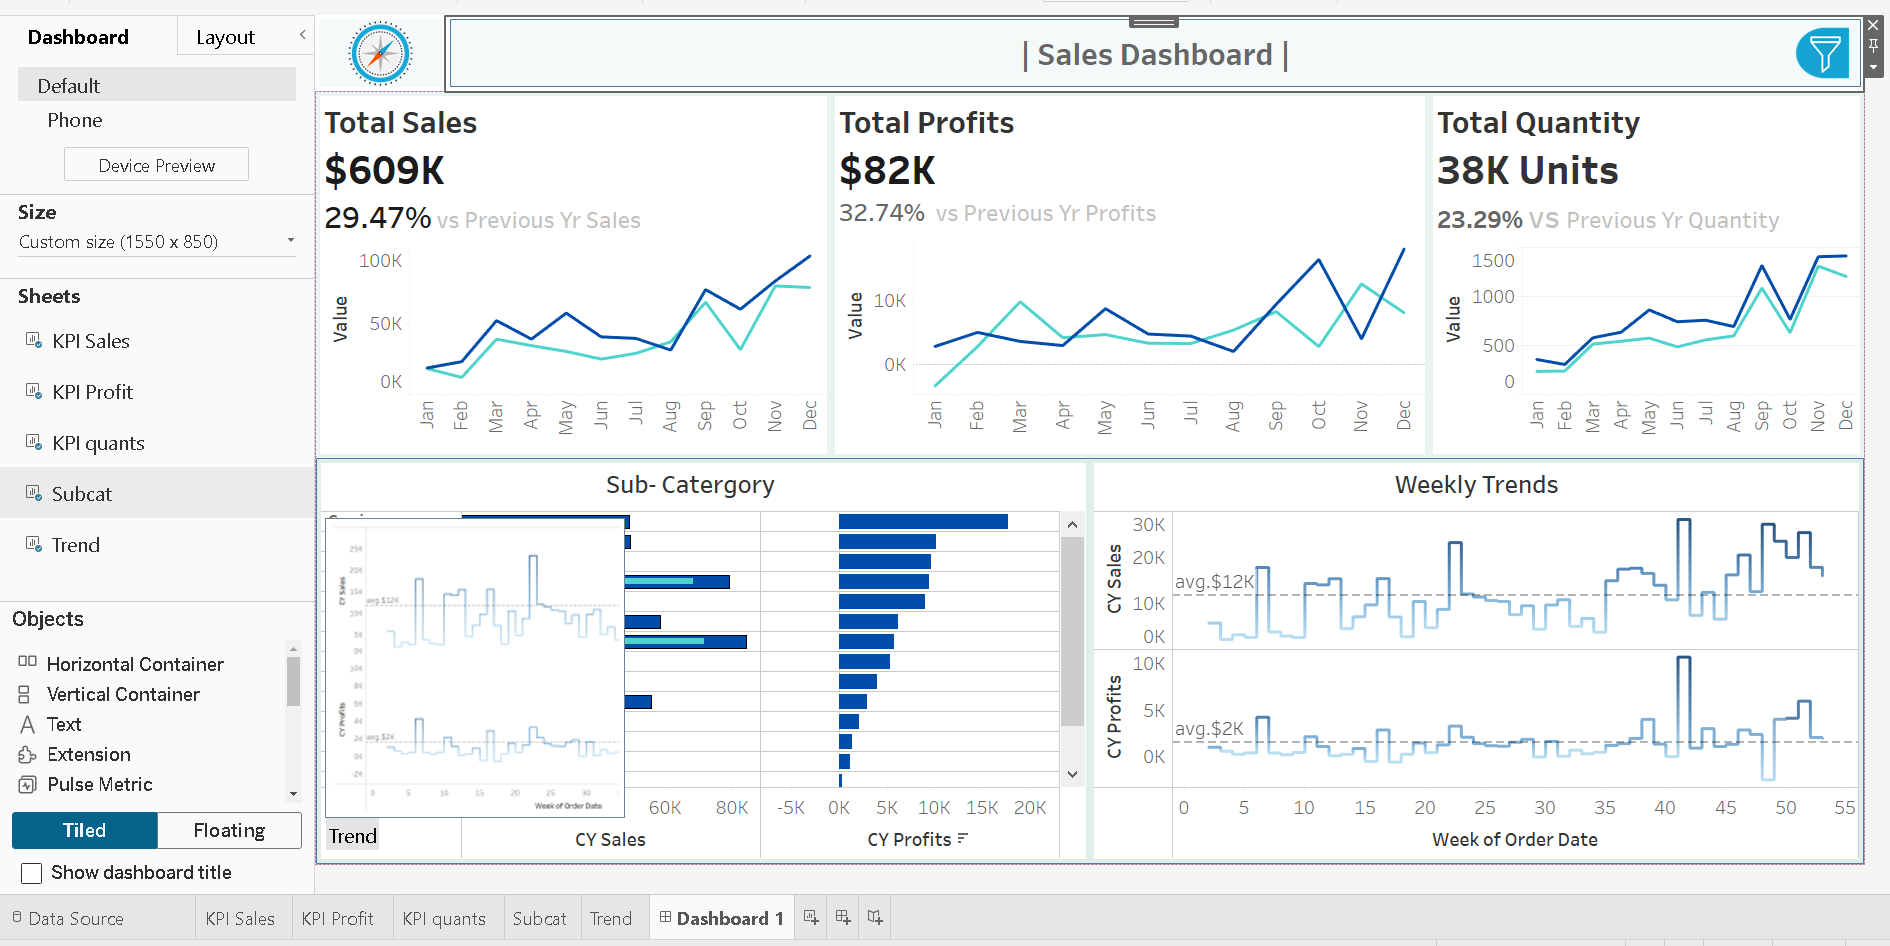

The page's visual inventory and layout, read from the dashboard file:
{"tool":"tableau","page":{"name":"Dashboard 1","canvas":[1550,850],"ordinal":0},"visuals":[{"type":"image","param":"C:/Users/DELL/Downloads/Non-EU-Training-Datasets/TableauProject-SalesDashboard/I","box":[0,0,131.5,75.9]},{"type":"text","box":[131.5,0,1418.5,75.9]},{"type":"worksheet","title":"KPI Sales","mark":"Automatic","cols":["Order Date"],"box":[1,76.9,515,366]},{"type":"worksheet","title":"KPI Profit","mark":"Automatic","cols":["Order Date"],"box":[516,76.9,597.9,366]},{"type":"worksheet","title":"KPI quants","mark":"Automatic","cols":["Order Date"],"box":[1113.9,76.9,435,366]},{"type":"text","box":[1293.8,84,231.2,41]},{"type":"parameter","param":"[Parameters].[Parameter 1]","box":[1293.8,125,231.2,60]},{"type":"blank","box":[1293.8,185,231.2,32]},{"type":"text","box":[1293.8,217,231.2,41]},{"type":"filter","title":"KPI Sales","param":"[federated.0vh0hhk0wpl4qg1h71m2c18ftw5a].[none:Category:nk]","box":[1293.8,258,231.2,70]},{"type":"filter","title":"KPI Sales","param":"[federated.0vh0hhk0wpl4qg1h71m2c18ftw5a].[none:Sub-Category:nk]","box":[1293.8,328,231.2,70]},{"type":"blank","box":[1293.8,398,231.2,32]},{"type":"text","box":[1293.8,430,231.2,41]},{"type":"worksheet","title":"Subcat","mark":"Bar","rows":["Sub-Category","Calculation_1002332394109984783"],"cols":["Calculation_841891657316814848","CY Sales (copy)_841891657317081089","Calculation_1002332394079404033"],"box":[2,444,773,404]},{"type":"worksheet","title":"Trend","mark":"Automatic","rows":["Calculation_841891657316814848","Calculation_1002332394079404033"],"cols":["Order Date"],"box":[775,444,773,404]},{"type":"filter","title":"KPI Sales","param":"[federated.0vh0hhk0wpl4qg1h71m2c18ftw5a].[none:Region:nk]","box":[1293.8,471,231.2,70]},{"type":"filter","title":"KPI Sales","param":"[federated.0vh0hhk0wpl4qg1h71m2c18ftw5a].[none:City:nk]","box":[1293.8,541,231.2,70]}]}

Visuals, with their boxes on the page's 1550x850 design canvas (x1, y1, x2, y2). These are canvas units, not pixel positions in the 1890x946 screenshot, which may show the page scaled, cropped or inside an application window:
image: [0,0,132,76]
text: [132,0,1550,76]
"KPI Sales" worksheet: [1,77,516,443]
"KPI Profit" worksheet: [516,77,1114,443]
"KPI quants" worksheet: [1114,77,1549,443]
text: [1294,84,1525,125]
parameter: [1294,125,1525,185]
blank: [1294,185,1525,217]
text: [1294,217,1525,258]
"KPI Sales" filter: [1294,258,1525,328]
"KPI Sales" filter: [1294,328,1525,398]
blank: [1294,398,1525,430]
text: [1294,430,1525,471]
"Subcat" worksheet (Bar marks): [2,444,775,848]
"Trend" worksheet: [775,444,1548,848]
"KPI Sales" filter: [1294,471,1525,541]
"KPI Sales" filter: [1294,541,1525,611]
